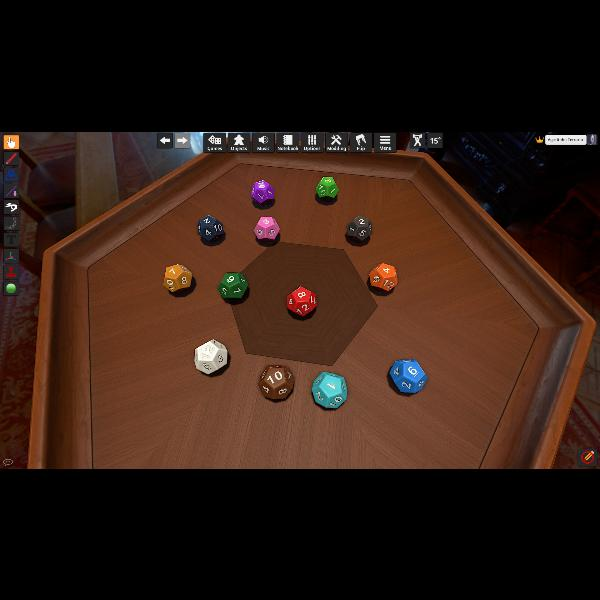d12: (258, 364, 294, 398), (311, 371, 345, 407), (389, 358, 425, 392), (193, 338, 226, 372), (164, 264, 193, 294), (217, 272, 247, 300), (287, 286, 315, 316), (369, 263, 396, 291), (196, 215, 222, 243), (253, 215, 279, 242), (345, 216, 371, 242), (314, 176, 338, 200), (252, 179, 274, 205)
